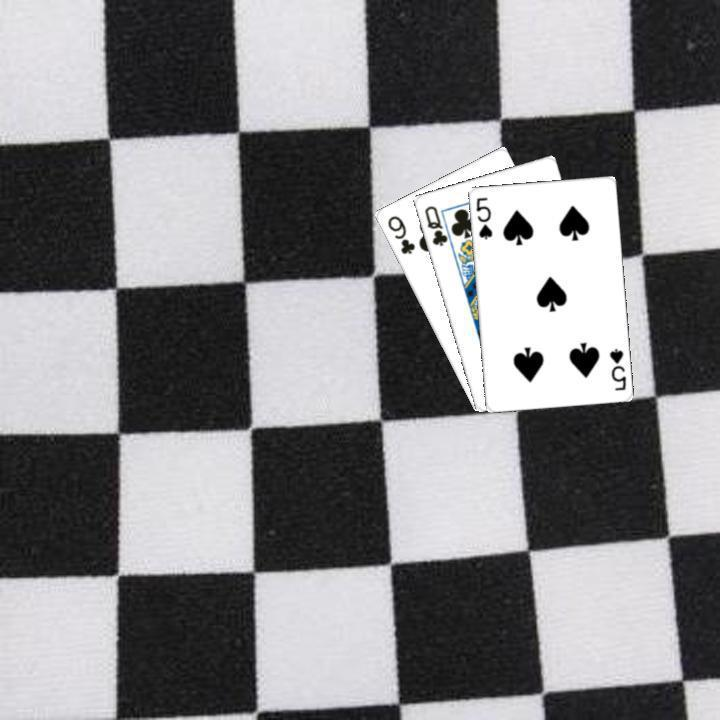5: (471, 192, 494, 241), (605, 343, 628, 392)
9: (383, 211, 417, 256)
Q: (420, 201, 449, 248)
